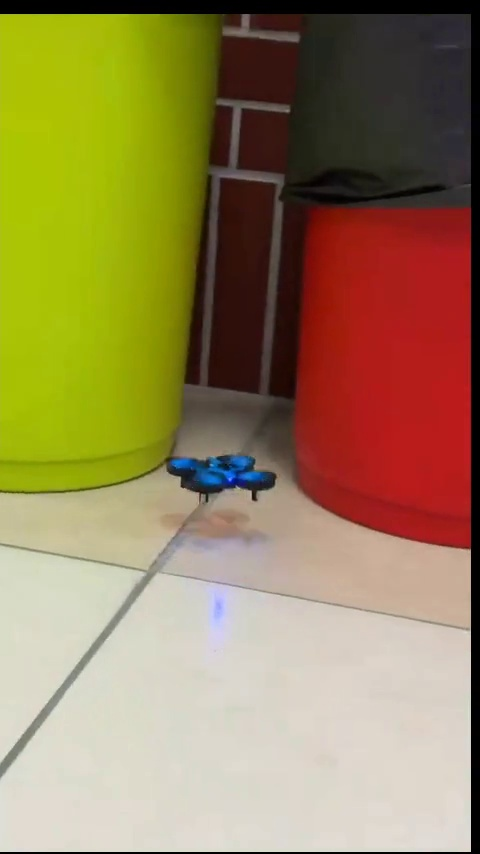drone: (163, 449, 283, 500)
